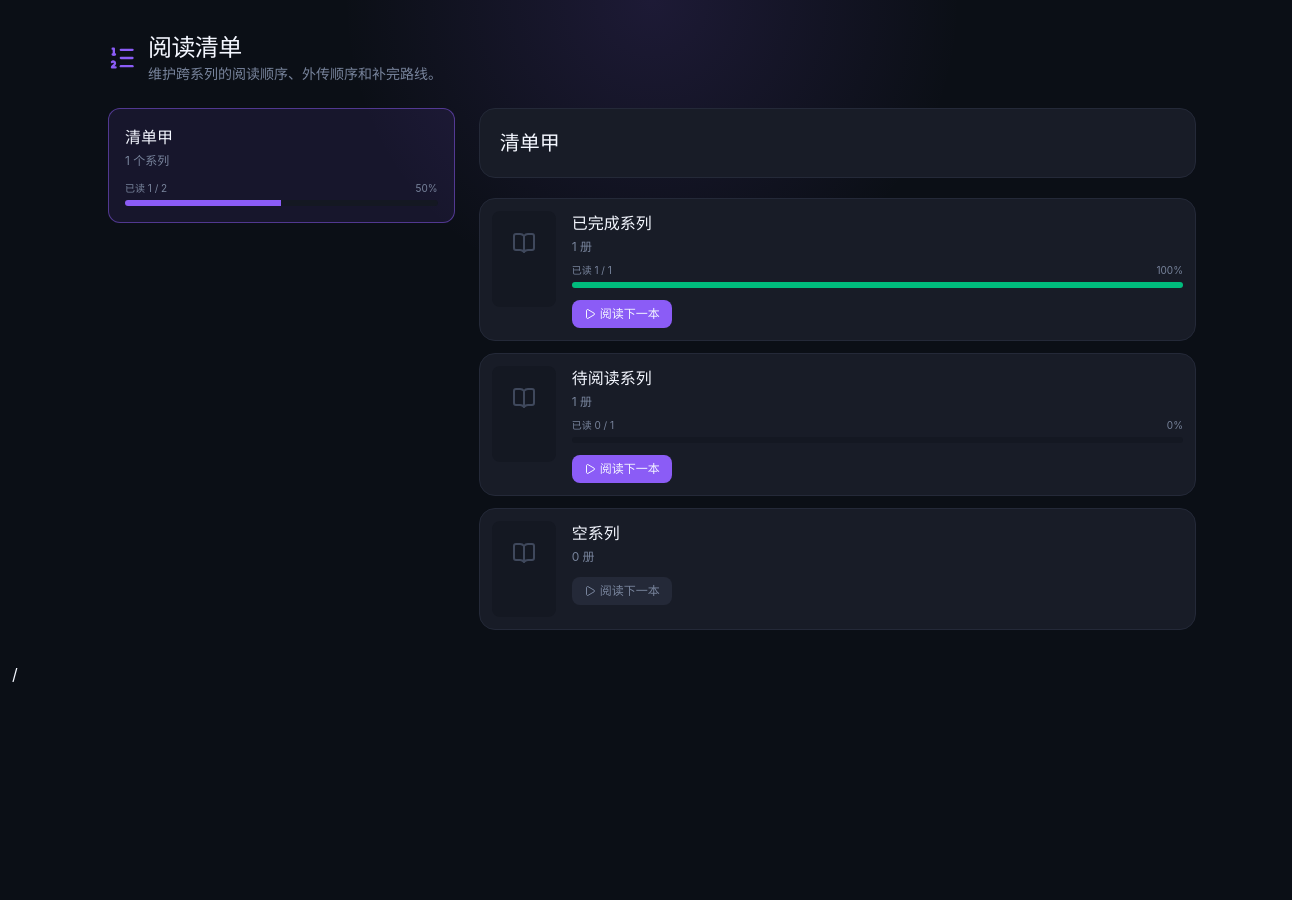
it: 阅读清单切换取数 › 按响应顺序显示进度，完成系列可从首书重读、空系列禁用且普通用户没有编辑入口
This screenshot has width=1292, height=900.
expect the button "待阅读系列" is shown: met, box [572,366,652,390]
expect the button "阅读下一本" below "已读 0 / 1" is enabled: met, box [572,455,672,483]
Click the button "阅读下一本" below "已读 1 / 1": [622, 314] box [572,300,672,328]
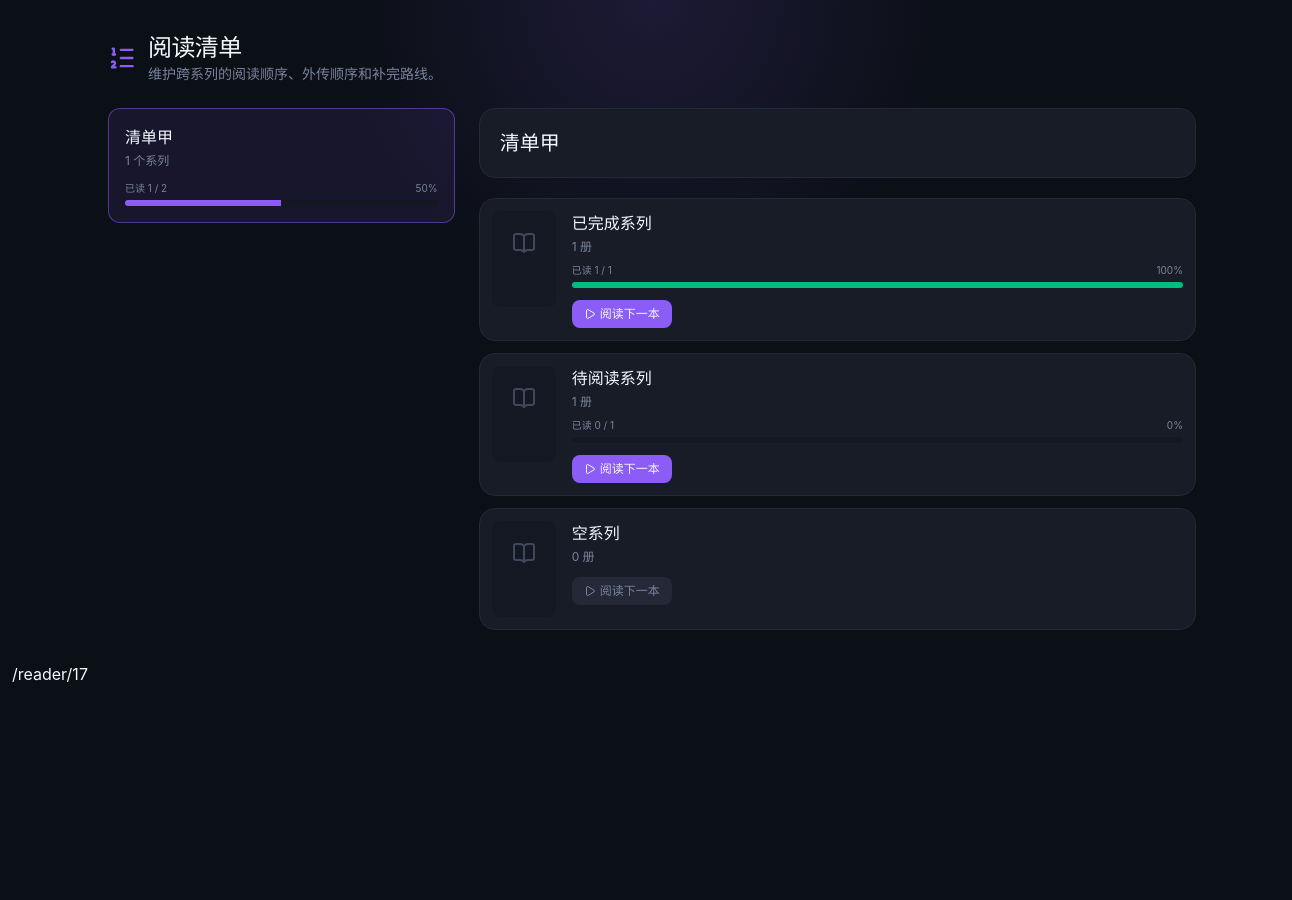
expect the text with test id "current-path" reads "/reader/17": met, box [12,664,88,684]
Click the button "阅读下一本" below "已读 0 / 1": [622, 469] box [572,455,672,483]
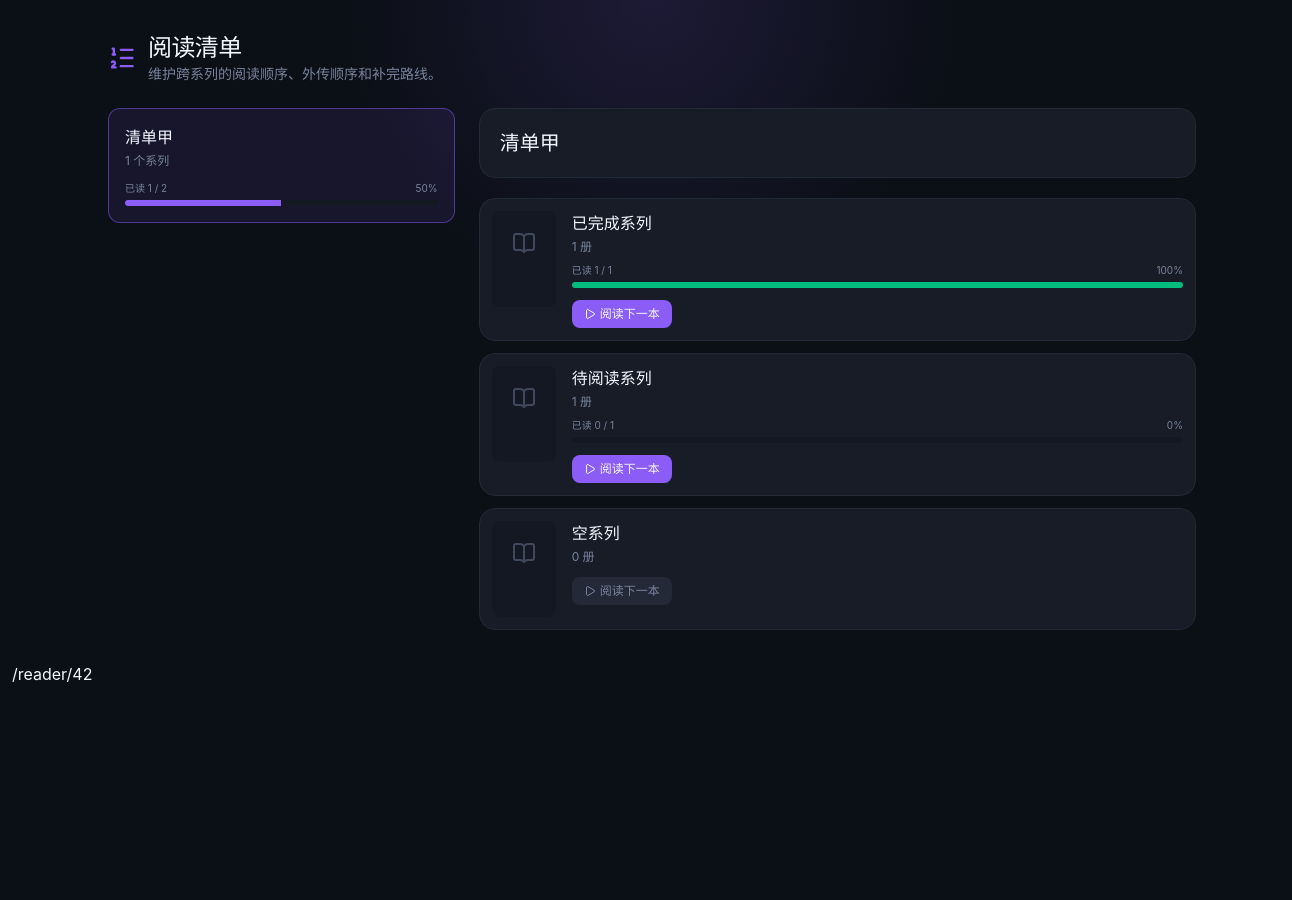
expect the text "100%" is shown once: met, box [1156,263,1183,278]
expect the text with test id "current-path" reads "/reader/42": met, box [12,664,92,684]
